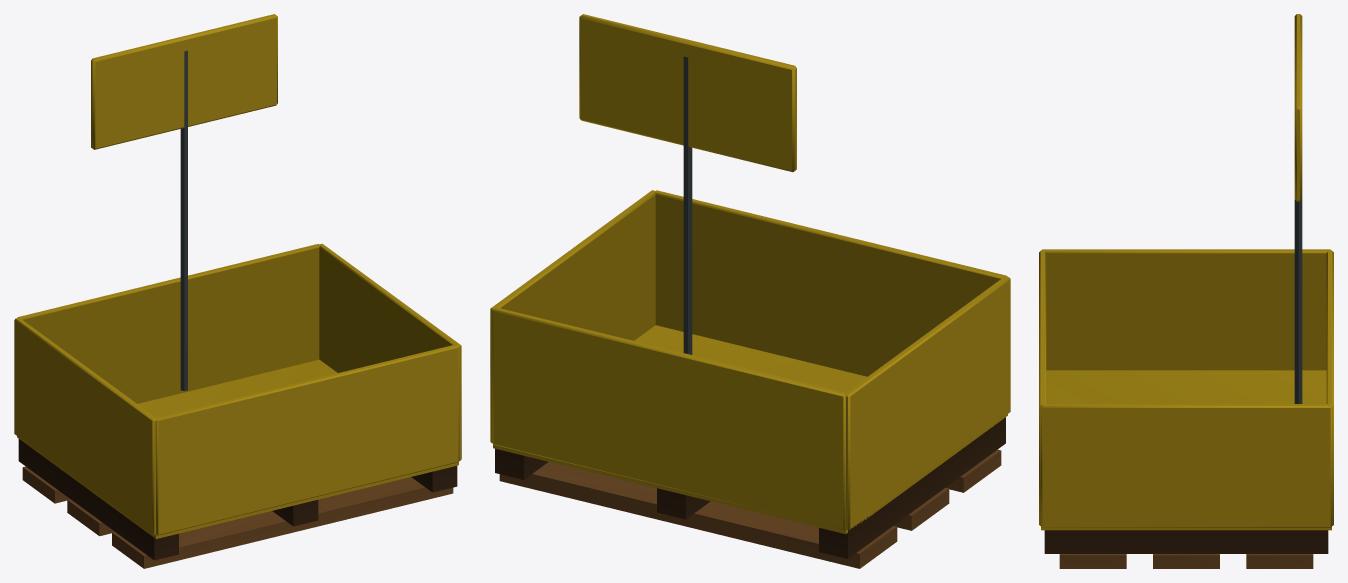
Rendered from mkt-promo-bin.glb.
The picture shows the model from 3 angles, left to right: view 1: azimuth 30°, elevation 25°; view 2: azimuth 150°, elevation 25°; view 3: azimuth 270°, elevation 25°; orthographic projection. The views are drawn at different scales.
Visible parts, largest first — view 1: bin__lacquer, sign__lacquer, pallet__wood, pole__steel; view 2: bin__lacquer, sign__lacquer, pallet__wood, pole__steel; view 3: bin__lacquer, pallet__wood, pole__steel, sign__lacquer.
Boxes of the visible parts, x1=… form: bin__lacquer: x1=14, y1=243, x2=461, y2=538; sign__lacquer: x1=91, y1=14, x2=277, y2=149; pallet__wood: x1=18, y1=439, x2=457, y2=568; pole__steel: x1=180, y1=50, x2=187, y2=390; bin__lacquer: x1=490, y1=190, x2=1010, y2=534; sign__lacquer: x1=579, y1=14, x2=796, y2=172; pallet__wood: x1=495, y1=417, x2=1005, y2=568; pole__steel: x1=683, y1=56, x2=692, y2=354; bin__lacquer: x1=1039, y1=249, x2=1333, y2=530; pallet__wood: x1=1044, y1=530, x2=1328, y2=568; pole__steel: x1=1294, y1=200, x2=1302, y2=403; sign__lacquer: x1=1294, y1=14, x2=1302, y2=201.
Bounding box in the file's own units: 1 × 1.27 × 0.79.
